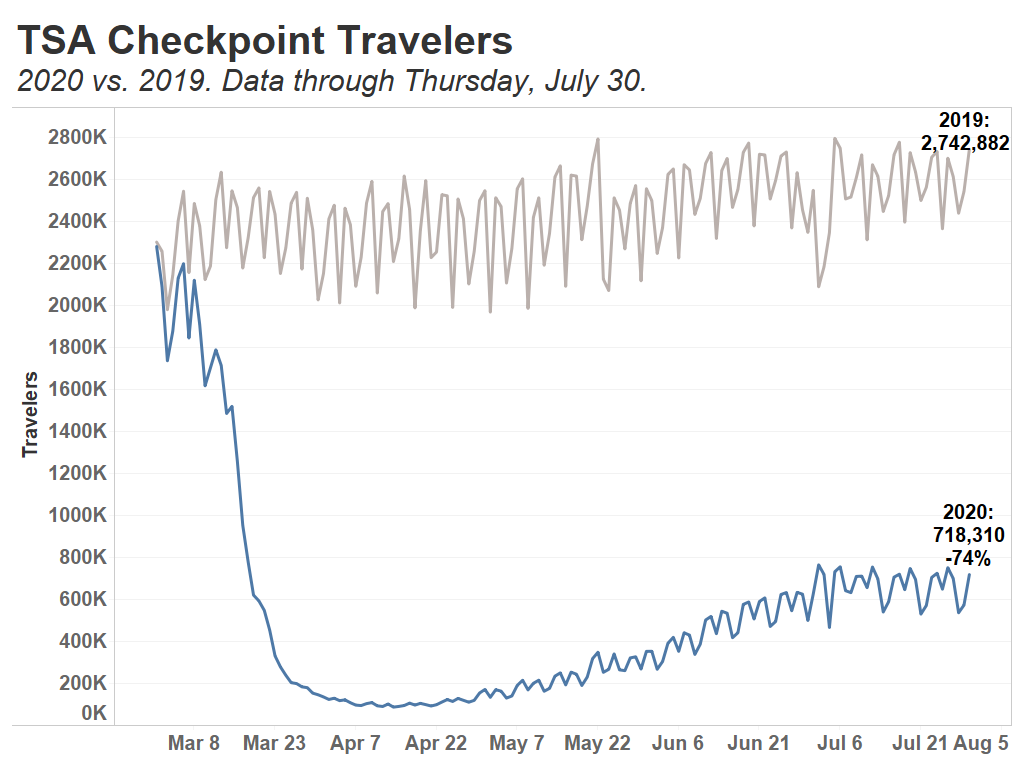

What the dashboard file says about the page in this screenshot:
{"tool":"tableau","page":{"name":"TSA Travelers","canvas":[1024,768],"ordinal":3},"visuals":[{"type":"worksheet","box":[0,0,1024,768]},{"type":"worksheet","title":"Travelers","mark":"Automatic","rows":["2019","2020"],"cols":["Date"],"box":[8,8,1008,752]}]}

Visuals, with their boxes in screenshot pixels (x1, y1, x2, y2), scaled from the page's 1024x768 canvas onto the 1024x768 screenshot:
worksheet: 0, 0, 1023, 767
"Travelers" worksheet: 8, 8, 1016, 760
